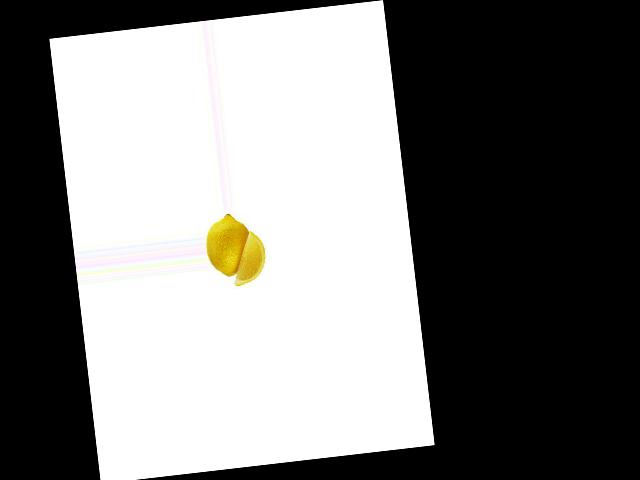lemon: (203, 209, 255, 282)
